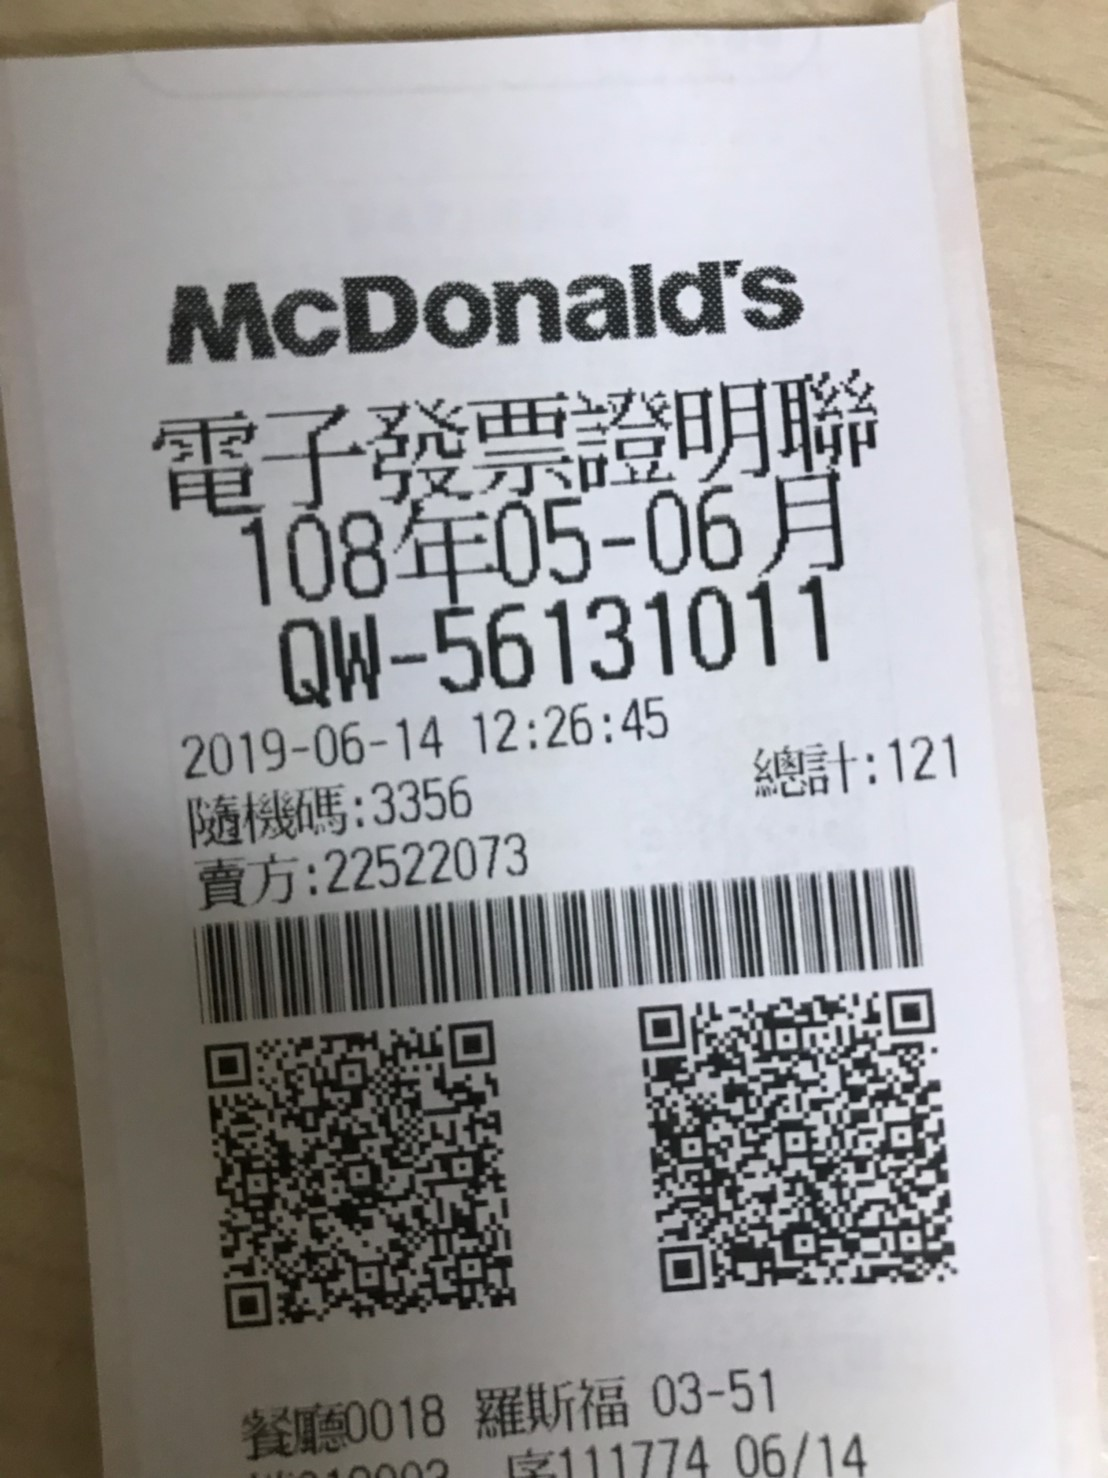Date_New: (230, 469, 847, 603)
Number_New: (428, 574, 834, 695)
